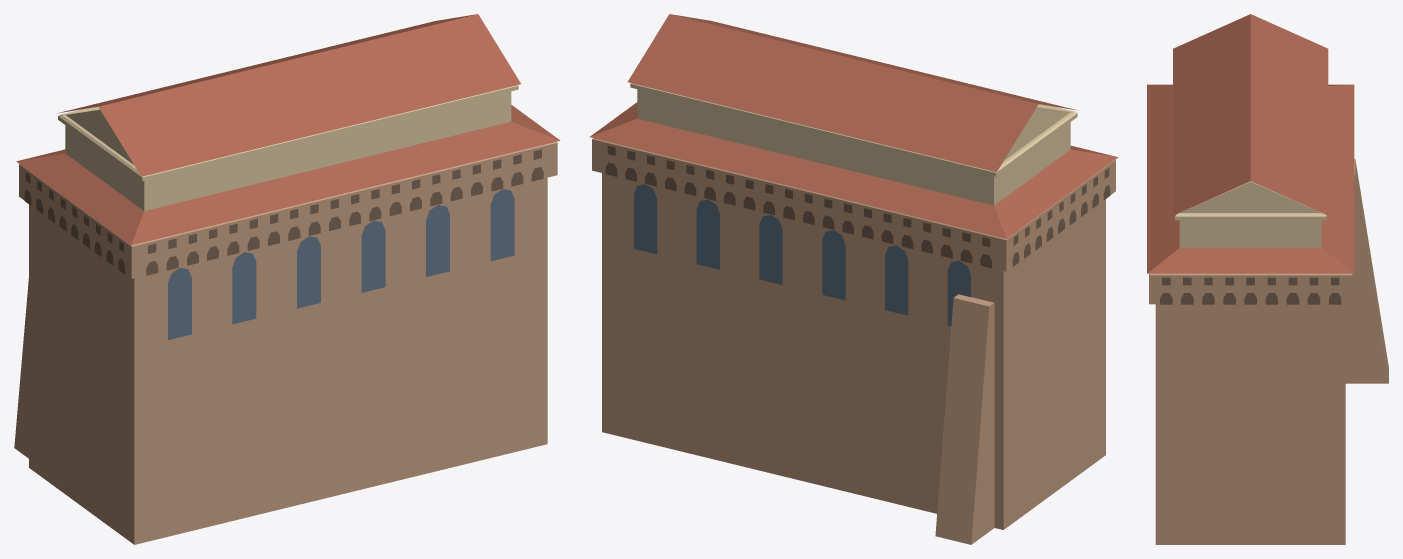
The model's file is rome-sistine-chapel.glb.
3 views of the same model, side by side, from view 1: azimuth 30°, elevation 25°; view 2: azimuth 150°, elevation 25°; view 3: azimuth 270°, elevation 25° (orthographic). The views are drawn at different scales.
Parts seen in each view (by area): view 1: Sistine Chapel; view 2: Sistine Chapel; view 3: Sistine Chapel.
Boxes of the visible parts, left/top/right/bottom form: Sistine Chapel: left=14, top=14, right=560, bottom=544; Sistine Chapel: left=589, top=14, right=1118, bottom=544; Sistine Chapel: left=1147, top=14, right=1388, bottom=544.
Size of the model in its own units: 46.6 by 41 by 25.2.
